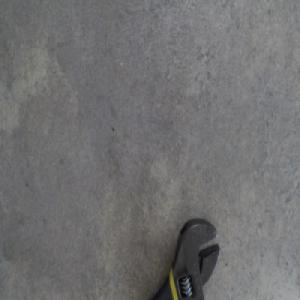AdjustableWrench: (151, 217, 221, 299)
